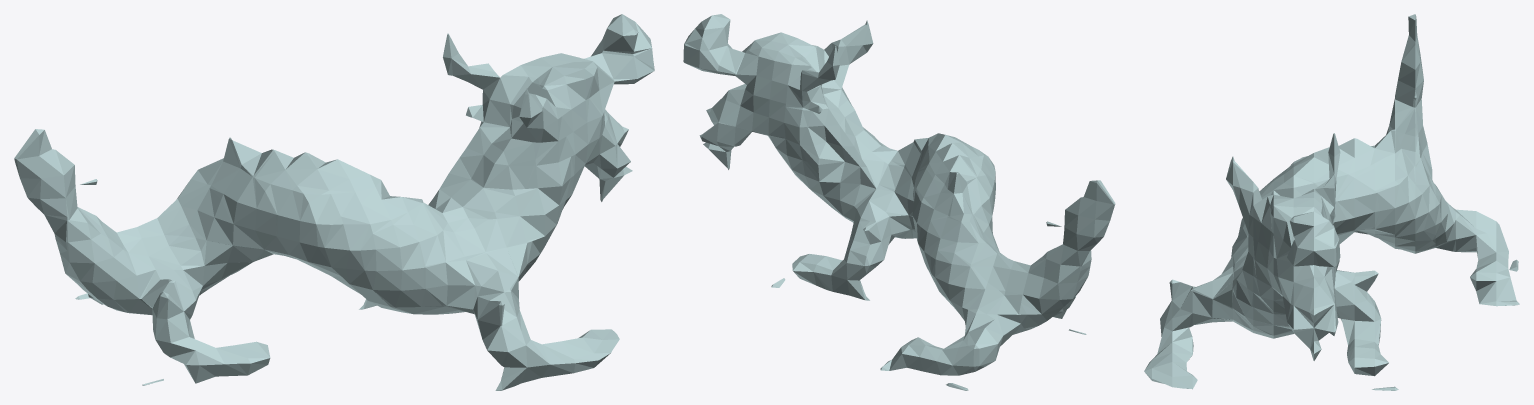
File: baseline_32.glb
3 views of the same model, side by side, from view 1: azimuth 30°, elevation 25°; view 2: azimuth 150°, elevation 25°; view 3: azimuth 270°, elevation 25° (orthographic). The views are drawn at different scales.
Parts seen in each view (by area): view 1: baseline_32.ply; view 2: baseline_32.ply; view 3: baseline_32.ply.
Part boxes in pixels (left/top/right/bottom): baseline_32.ply: left=14, top=14, right=654, bottom=390; baseline_32.ply: left=683, top=14, right=1115, bottom=390; baseline_32.ply: left=1144, top=14, right=1519, bottom=390.
Bounding box in the file's own units: 1.84 × 0.8473 × 1.2.
